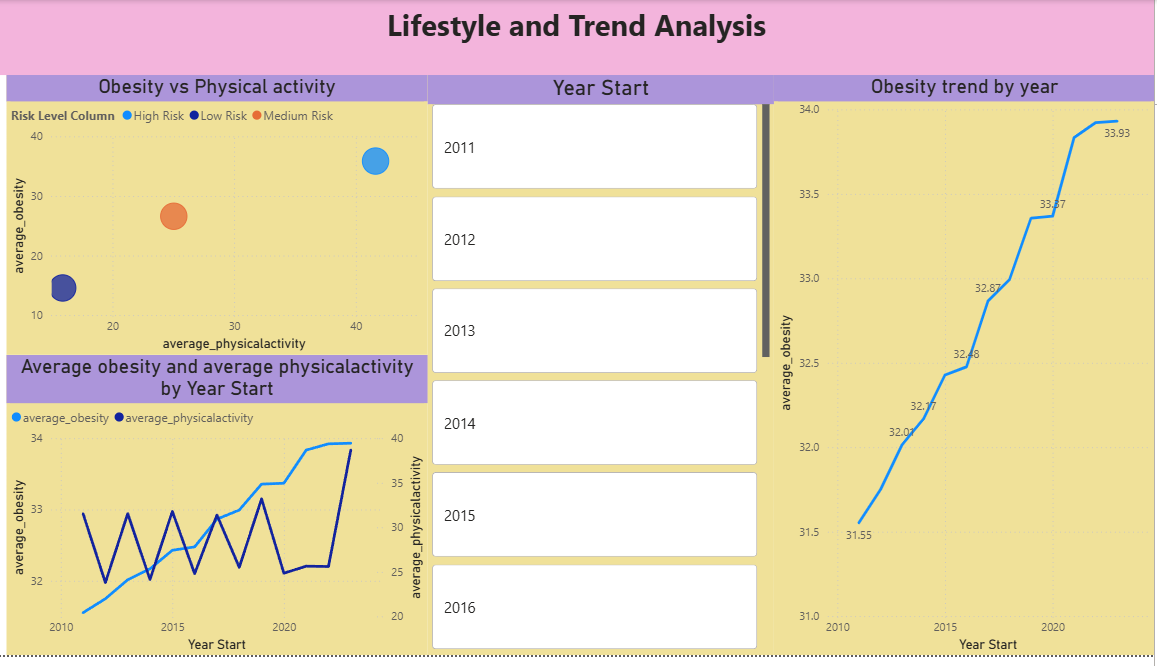

This screenshot's page, from the dashboard's own definition file:
{"tool":"powerbi","page":{"name":"Lifestyle and Trend Analysis","canvas":[1280,720],"ordinal":20},"visuals":[{"type":"textbox","box":[9.6,0,1270.7,82.3],"z":0},{"type":"scatterChart","title":"Obesity vs Physical activity","fields":{"X":["Fact tab.average_physicalactivity"],"Y":["Fact tab.average_obesity"],"Series":["Fact tab.Risk Level Column"]},"box":[19.2,82.3,462.4,307.4],"z":1000},{"type":"lineChart","title":"Obesity trend by year","fields":{"Category":["Fact tab.Year Start"],"Y":["Fact tab.average_obesity"]},"box":[861.8,82.3,418.5,638.1],"z":2000},{"type":"lineChart","title":"Average obesity and average physicalactivity by Year Start","fields":{"Category":["Fact tab.Year Start"],"Y":["Fact tab.average_obesity"],"Y2":["Fact tab.average_physicalactivity"]},"box":[19.2,389.7,462.4,330.7],"z":3000},{"type":"advancedSlicerVisual","fields":{"Values":["Fact tab.Year Start"]},"box":[481.6,82.3,380.1,638.1],"z":4000}]}

Visuals, with their boxes in screenshot pixels (x1, y1, x2, y2), scaled from the page's 1280x720 canvas onto the 1157x666 screenshot:
textbox: [x1=9, y1=0, x2=1156, y2=76]
"Obesity vs Physical activity" scatterChart: [x1=17, y1=76, x2=435, y2=360]
"Obesity trend by year" lineChart: [x1=779, y1=76, x2=1156, y2=665]
"Average obesity and average physicalactivity by Year Start" lineChart: [x1=17, y1=360, x2=435, y2=665]
advancedSlicerVisual - Fact tab.Year Start: [x1=435, y1=76, x2=779, y2=665]
